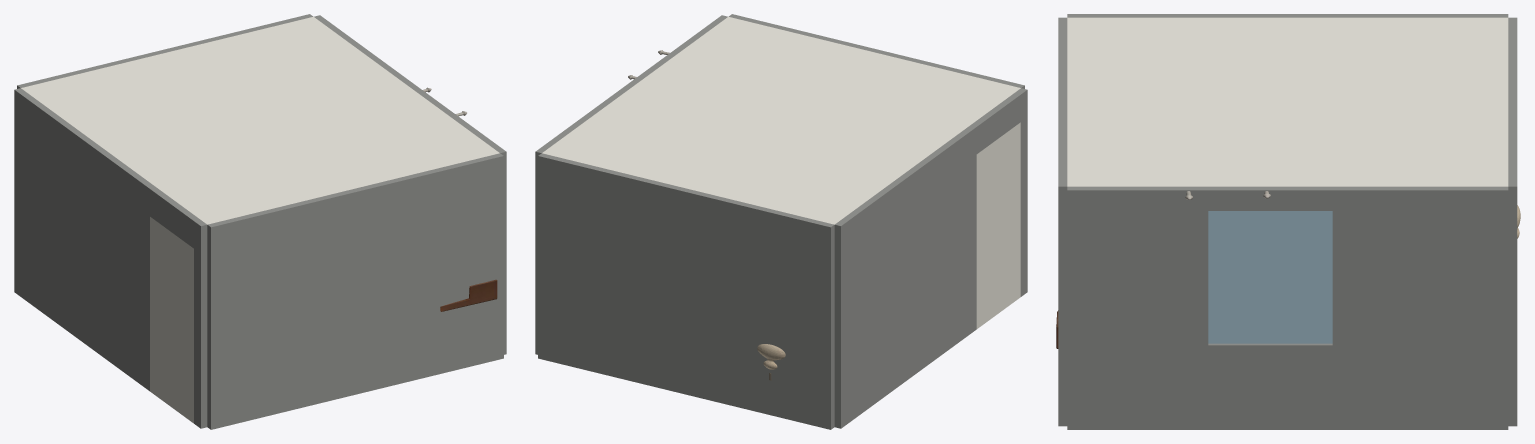
The model's file is bedroom.glb.
The picture shows the model from 3 angles, left to right: view 1: azimuth 30°, elevation 25°; view 2: azimuth 150°, elevation 25°; view 3: azimuth 270°, elevation 25°; orthographic projection. The views are drawn at different scales.
Visible parts, largest first — view 1: room_wall_03, room_ceiling, room_wall_00, room_wall_04, room_wall_01, room_wall_02, unit_0005; view 2: room_wall_04, room_ceiling, room_wall_00, room_wall_02, room_wall_03, unit_0017; view 3: room_wall_02, room_ceiling, room_wall_01, room_wall_04, room_wall_03, room_wall_00.
Part boxes in pixels (bbox=[...]): room_wall_03: bbox=[207, 153, 503, 429]; room_ceiling: bbox=[21, 16, 499, 224]; room_wall_00: bbox=[14, 88, 207, 428]; room_wall_04: bbox=[17, 14, 312, 88]; room_wall_01: bbox=[445, 108, 506, 354]; room_wall_02: bbox=[314, 15, 449, 112]; unit_0005: bbox=[440, 279, 497, 311]; room_wall_04: bbox=[538, 153, 834, 429]; room_ceiling: bbox=[542, 16, 1020, 224]; room_wall_00: bbox=[834, 88, 1027, 428]; room_wall_02: bbox=[535, 55, 672, 354]; room_wall_03: bbox=[729, 14, 1024, 88]; unit_0017: bbox=[757, 344, 785, 380]; room_wall_02: bbox=[1197, 186, 1508, 429]; room_ceiling: bbox=[1067, 17, 1508, 186]; room_wall_01: bbox=[1067, 186, 1208, 429]; room_wall_04: bbox=[1508, 17, 1517, 426]; room_wall_03: bbox=[1058, 17, 1067, 426]; room_wall_00: bbox=[1067, 14, 1508, 17].
Bounding box in the file's own units: 3.95 × 2.41 × 4.23.
35 materials, 24 textured.
